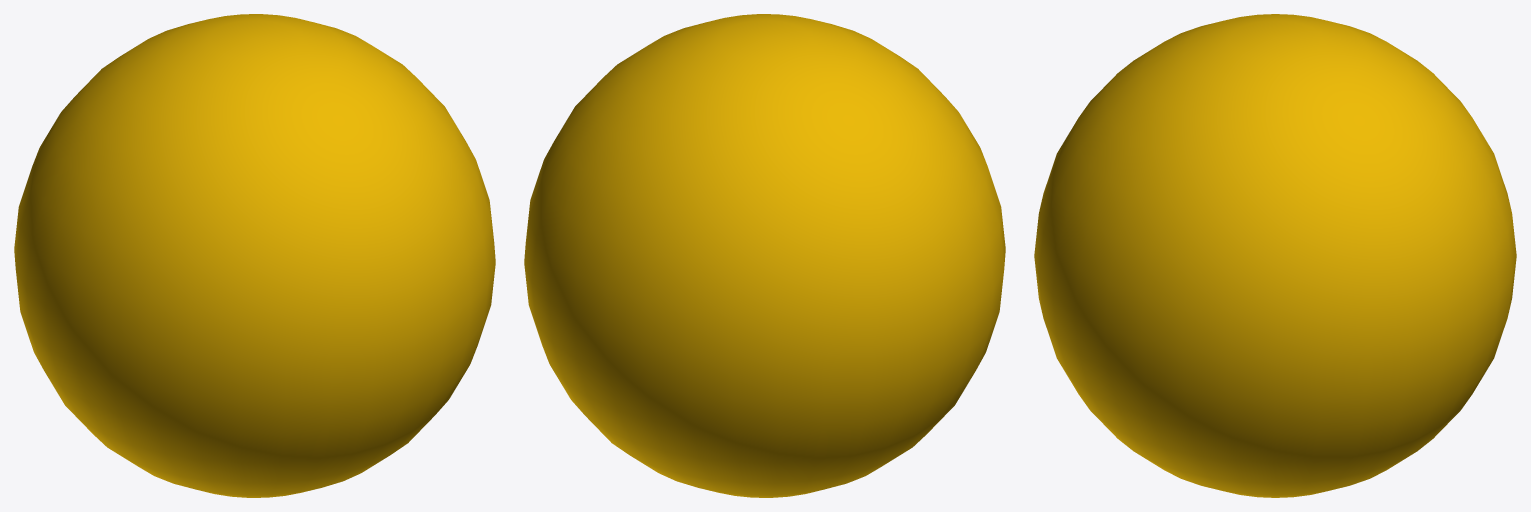
The picture shows the model from 3 angles, left to right: view 1: azimuth 30°, elevation 25°; view 2: azimuth 150°, elevation 25°; view 3: azimuth 270°, elevation 25°; orthographic projection.
Visible parts, largest first — view 1: Sphere; view 2: Sphere; view 3: Sphere.
Boxes of the visible parts, x1,y1,x2,y2 form: Sphere: (14,14,495,497); Sphere: (524,14,1005,497); Sphere: (1034,14,1516,497).
Bounding box in the file's own units: 198 × 198 × 198.
